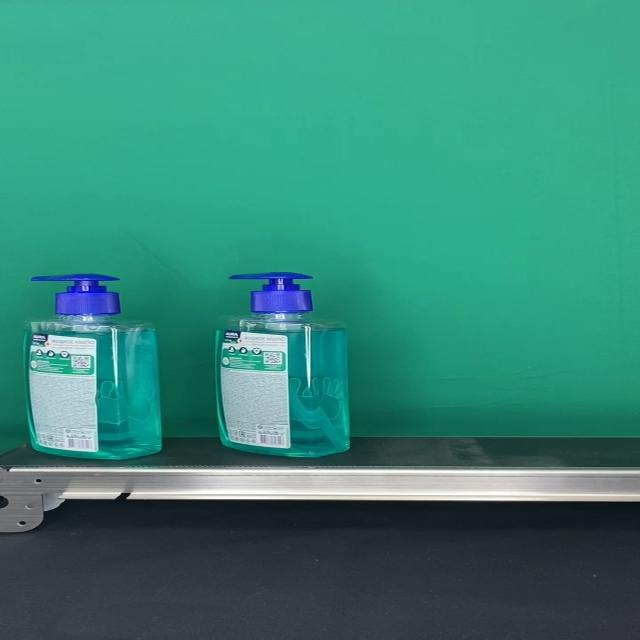Bottle: (23, 273, 162, 460), (213, 272, 351, 458)
Cap: (31, 273, 120, 315), (230, 272, 312, 313)
